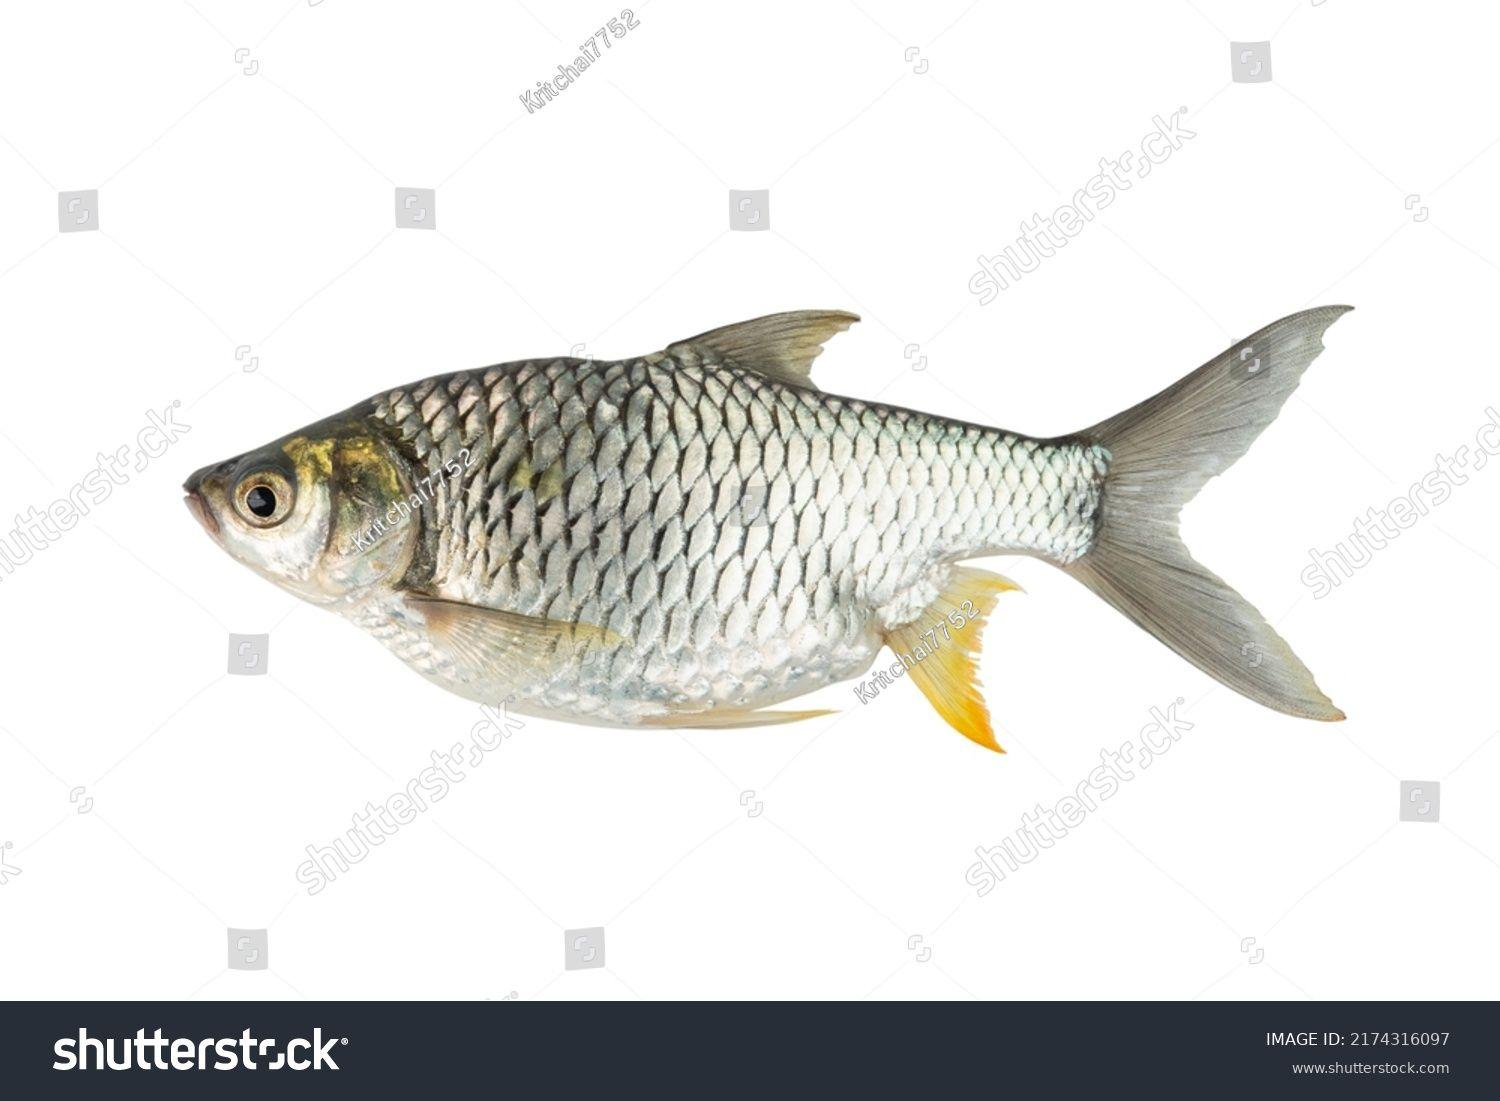Silver Barb: (189, 285, 1420, 762)
